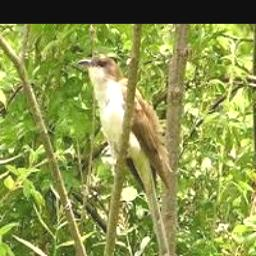Cuckoo: (77, 56, 173, 189)
